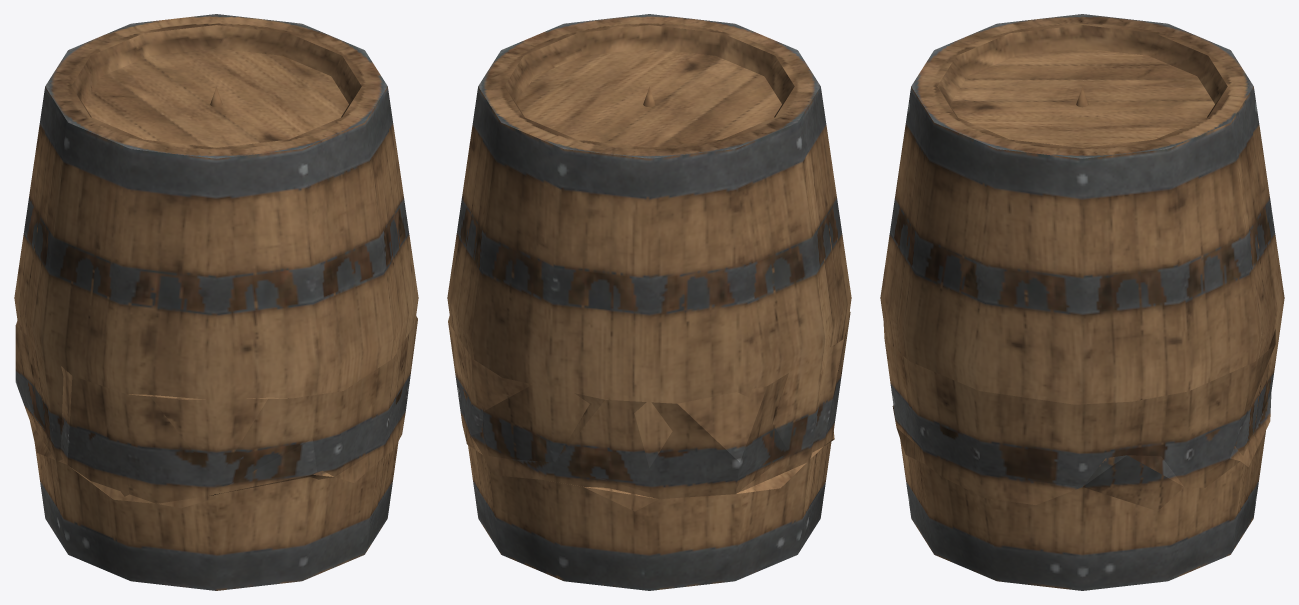
File: barrel_lod0.glb
The picture shows the model from 3 angles, left to right: view 1: azimuth 30°, elevation 25°; view 2: azimuth 150°, elevation 25°; view 3: azimuth 270°, elevation 25°; orthographic projection.
Parts seen in each view (by area): view 1: low; view 2: low; view 3: low.
Boxes of the visible parts, left/top/right/bottom form: low: left=14, top=14, right=418, bottom=590; low: left=447, top=14, right=851, bottom=590; low: left=880, top=14, right=1284, bottom=590.
Bounding box in the file's own units: 0.9025 × 1.06 × 0.9025.
Materials: 1 (1 with a texture image).
